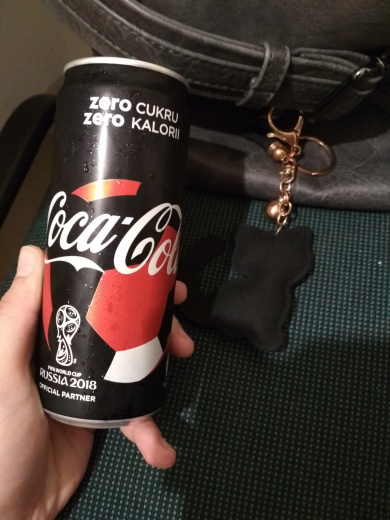colazero: (31, 53, 185, 433)
